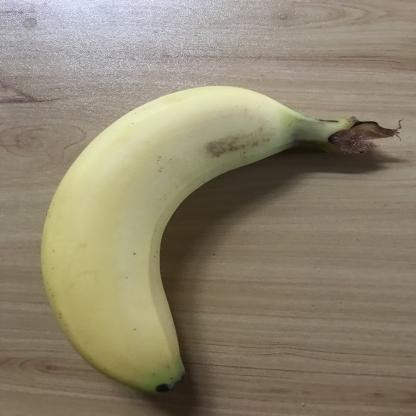banana: (32, 82, 400, 404)
